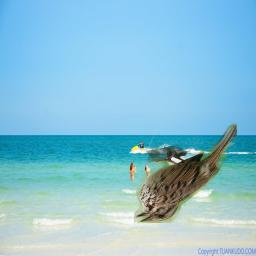Sparrow: (134, 123, 237, 223)
